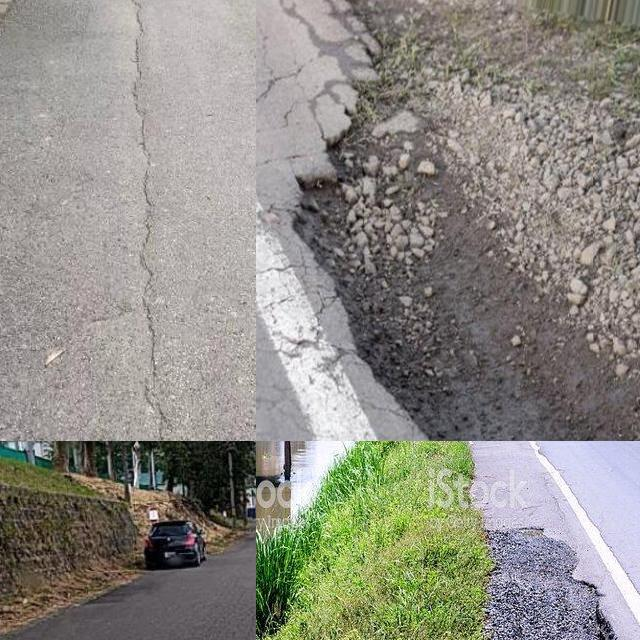Memanjang: (115, 0, 180, 441)
Pinggir: (294, 64, 640, 441), (451, 495, 629, 640)
